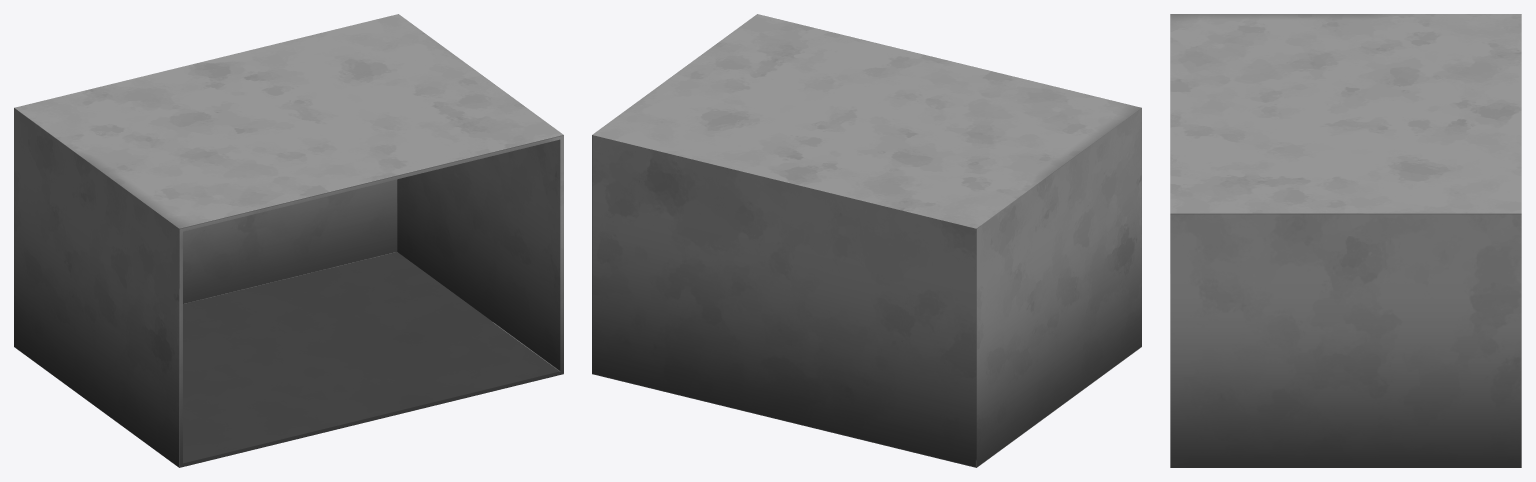
File: Factory_RoomBase1.fbx
The picture shows the model from 3 angles, left to right: view 1: azimuth 30°, elevation 25°; view 2: azimuth 150°, elevation 25°; view 3: azimuth 270°, elevation 25°; orthographic projection. The views are drawn at different scales.
Parts seen in each view (by area): view 1: Cube.057; view 2: Cube.057; view 3: Cube.057.
Part boxes in pixels (<box>): Cube.057: <box>14,14,563,467</box>; Cube.057: <box>592,14,1141,467</box>; Cube.057: <box>1170,14,1521,467</box>.
Size of the model in its own units: 725 by 431 by 540.
1 material, 1 textured.
